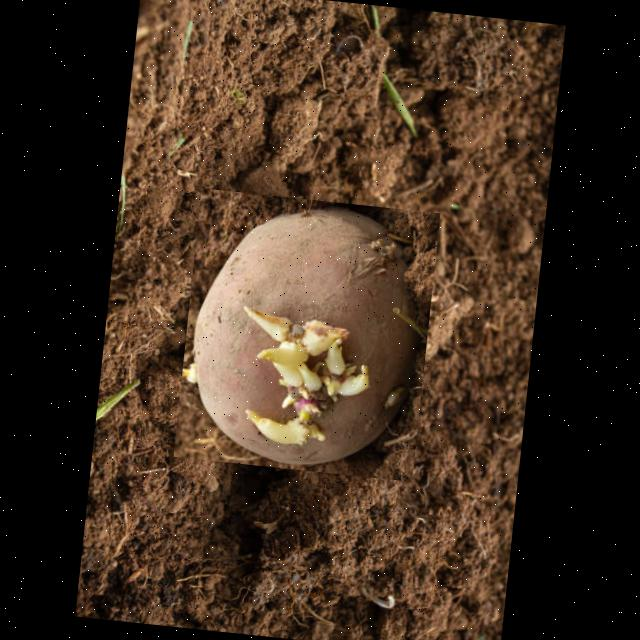Sprouted potato: (173, 187, 440, 480)
